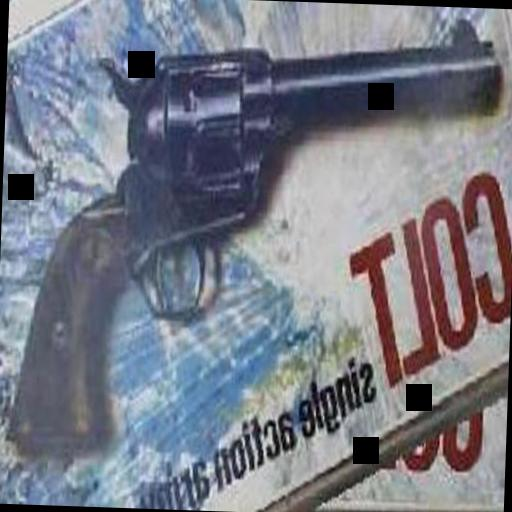Handgun: (4, 0, 501, 474)
